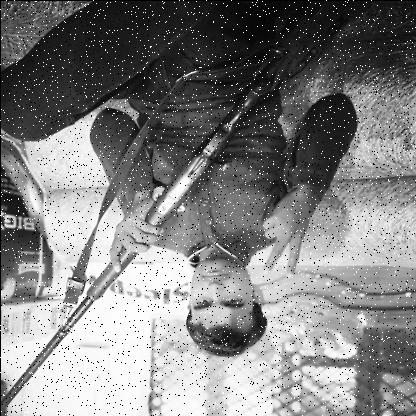rifle: (0, 0, 350, 408)
